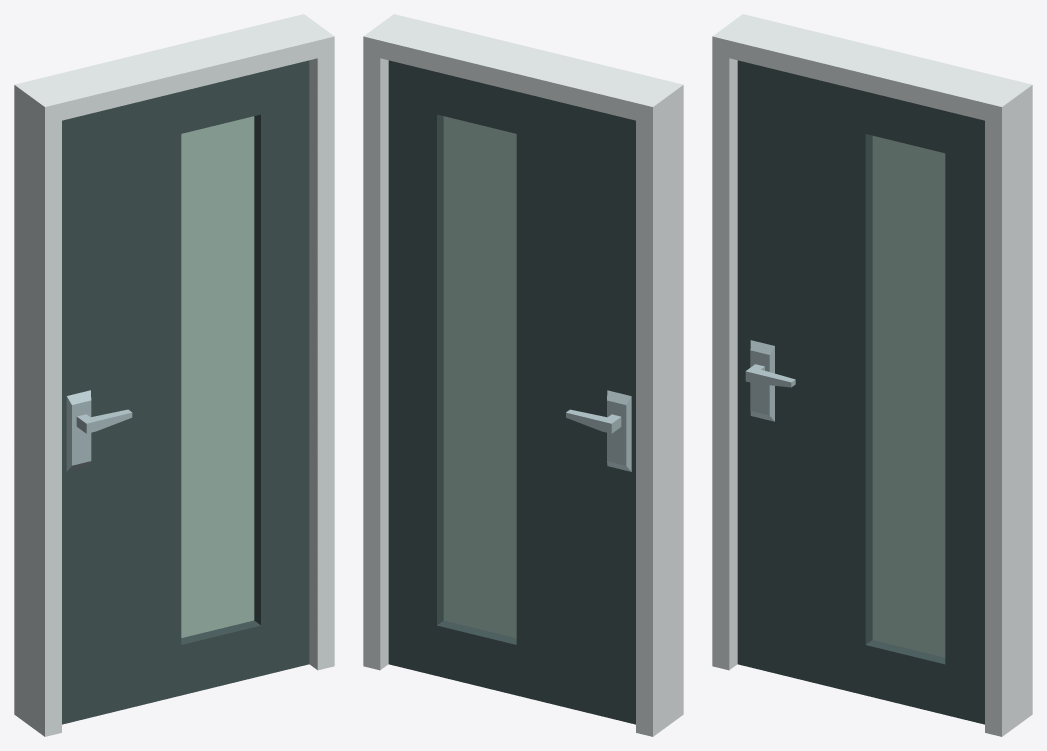
Rendered from doorwayFront.obj.
3 views of the same model, side by side, from view 1: azimuth 30°, elevation 25°; view 2: azimuth 150°, elevation 25°; view 3: azimuth 330°, elevation 25° (orthographic).
Visible parts, largest first — view 1: door, doorwayFront; view 2: door, doorwayFront; view 3: door, doorwayFront.
Boxes of the visible parts, box(x1,y1,x2,y2) form: door: box(62, 60, 309, 724); doorwayFront: box(14, 14, 334, 736); door: box(388, 60, 635, 724); doorwayFront: box(363, 14, 683, 736); door: box(737, 60, 984, 724); doorwayFront: box(712, 14, 1032, 736).
Bounding box in the file's own units: 0.486 × 1.01 × 0.1134.
